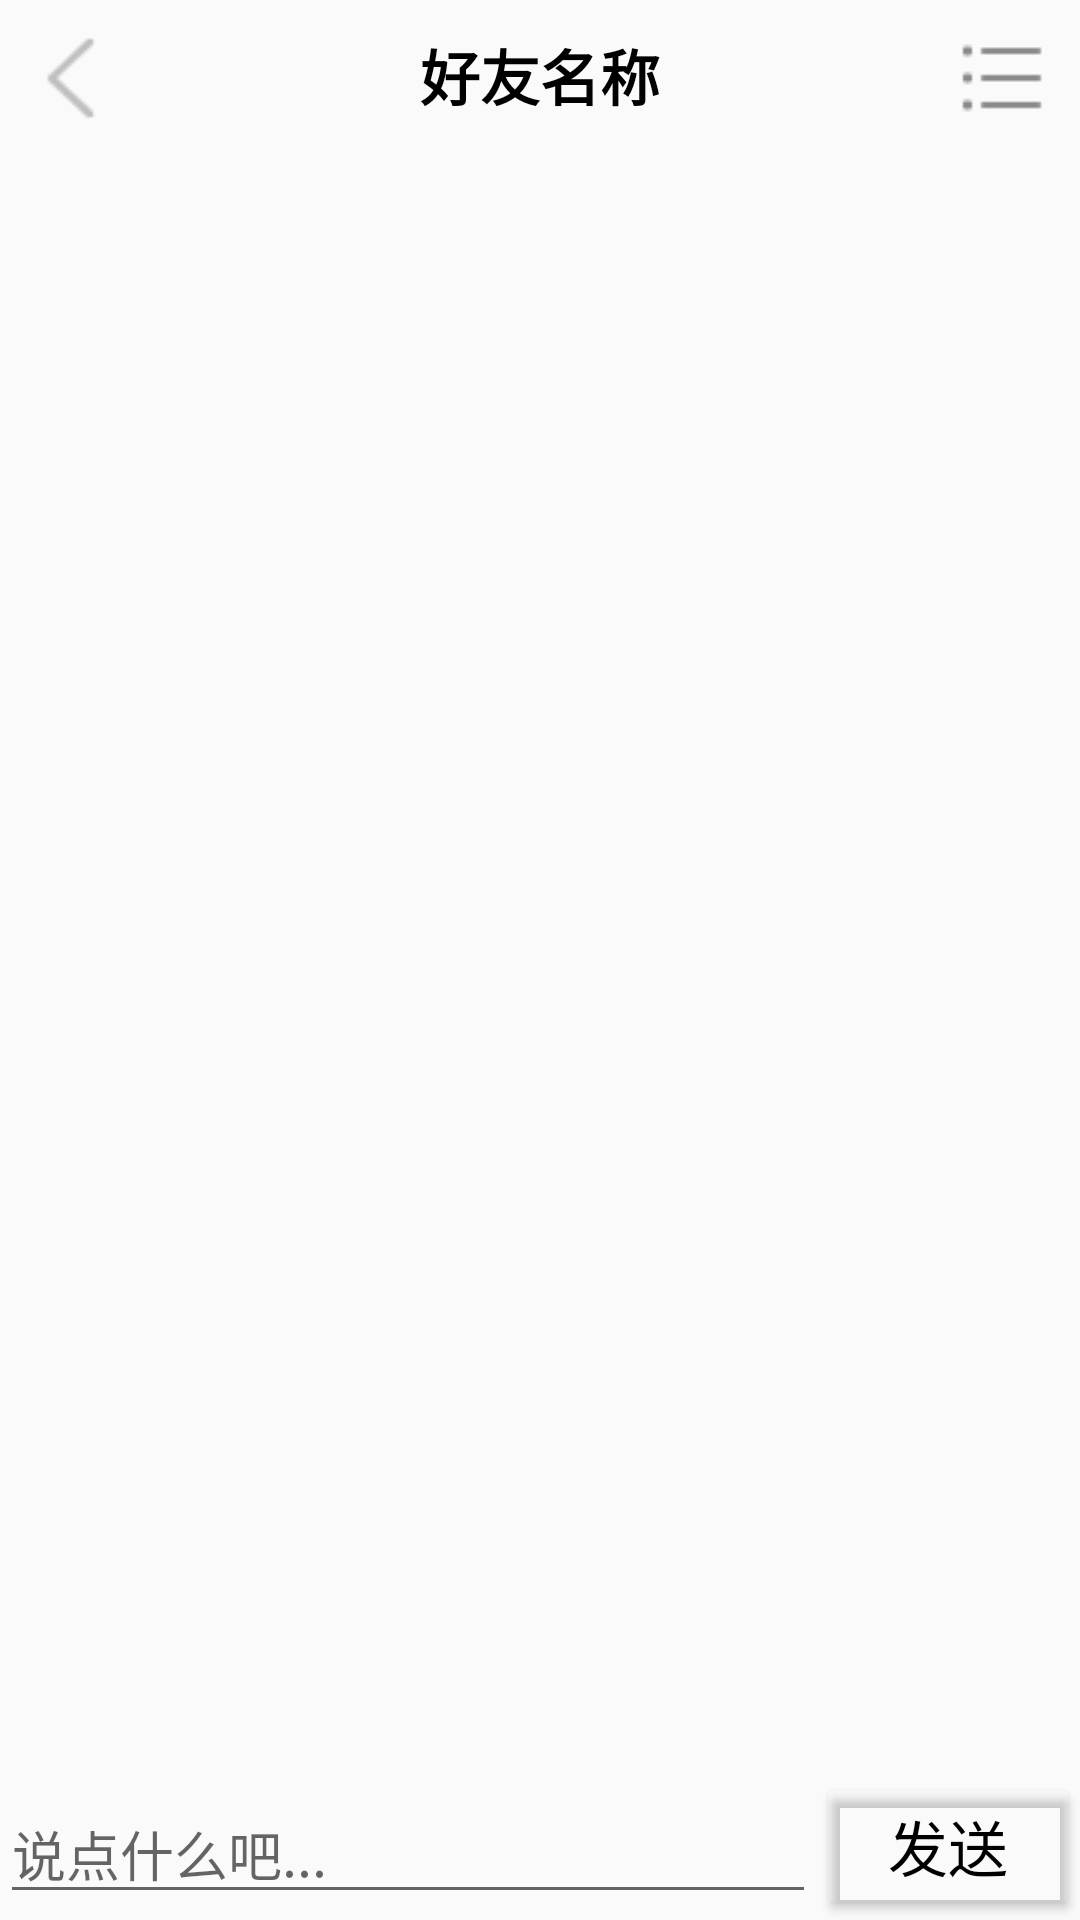

Where to tap for icons on this 1080px×1920px app screen, as (x=x, y=y):
back: (x=70, y=78)
